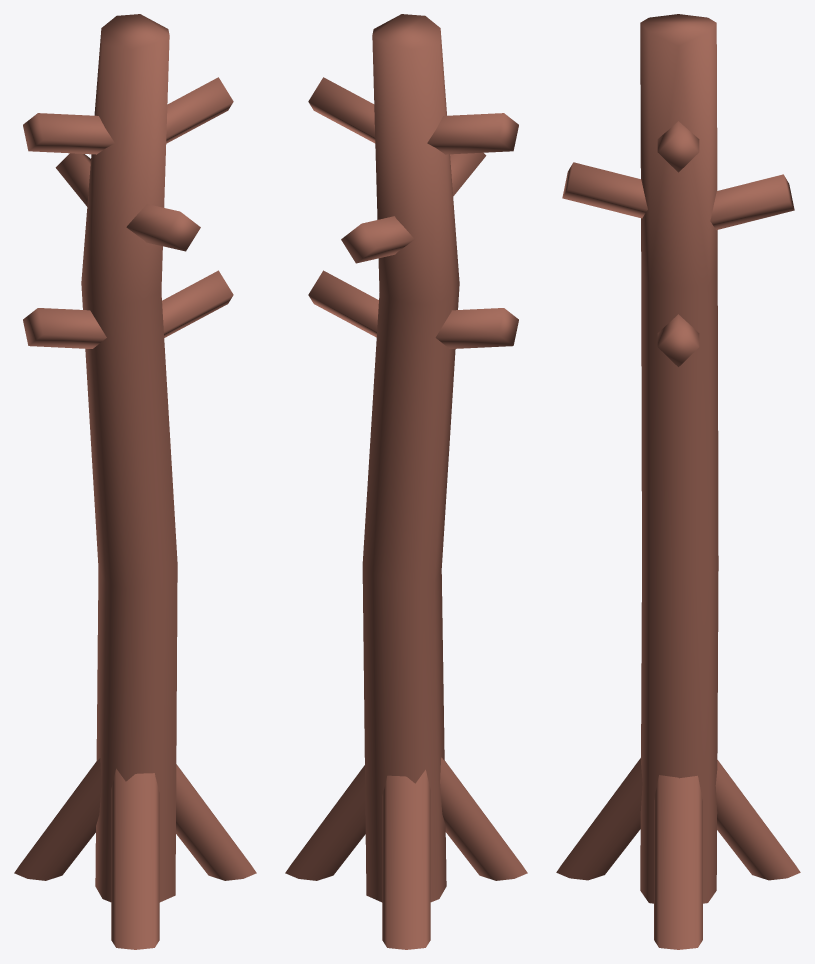
File: GuardaChapeu_2.fbx
3 views of the same model, side by side, from view 1: azimuth 30°, elevation 25°; view 2: azimuth 150°, elevation 25°; view 3: azimuth 270°, elevation 25° (orthographic).
Visible parts, largest first — view 1: GuardaChapeu_2; view 2: GuardaChapeu_2; view 3: GuardaChapeu_2.
Part boxes in pixels (box(x1,y1,x2,y2)): GuardaChapeu_2: box(14, 14, 256, 949); GuardaChapeu_2: box(285, 14, 527, 949); GuardaChapeu_2: box(556, 14, 800, 949).
Bounding box in the file's own units: 0.3717 × 0.3942 × 1.46.
